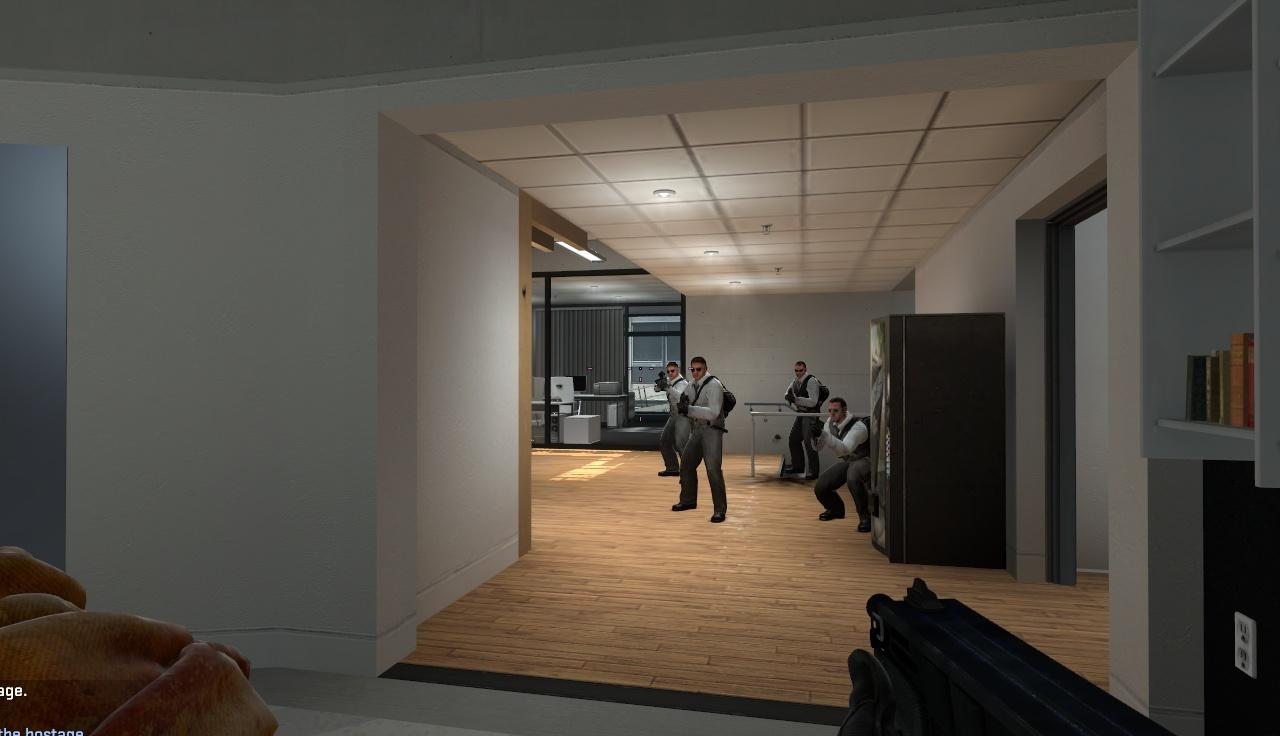shotgun: (838, 562, 1241, 736)
tt: (681, 357, 726, 520), (822, 397, 872, 528), (788, 359, 820, 480), (654, 359, 682, 475)
tthead: (827, 398, 847, 422), (691, 358, 707, 380), (665, 361, 678, 379), (795, 362, 807, 378)
